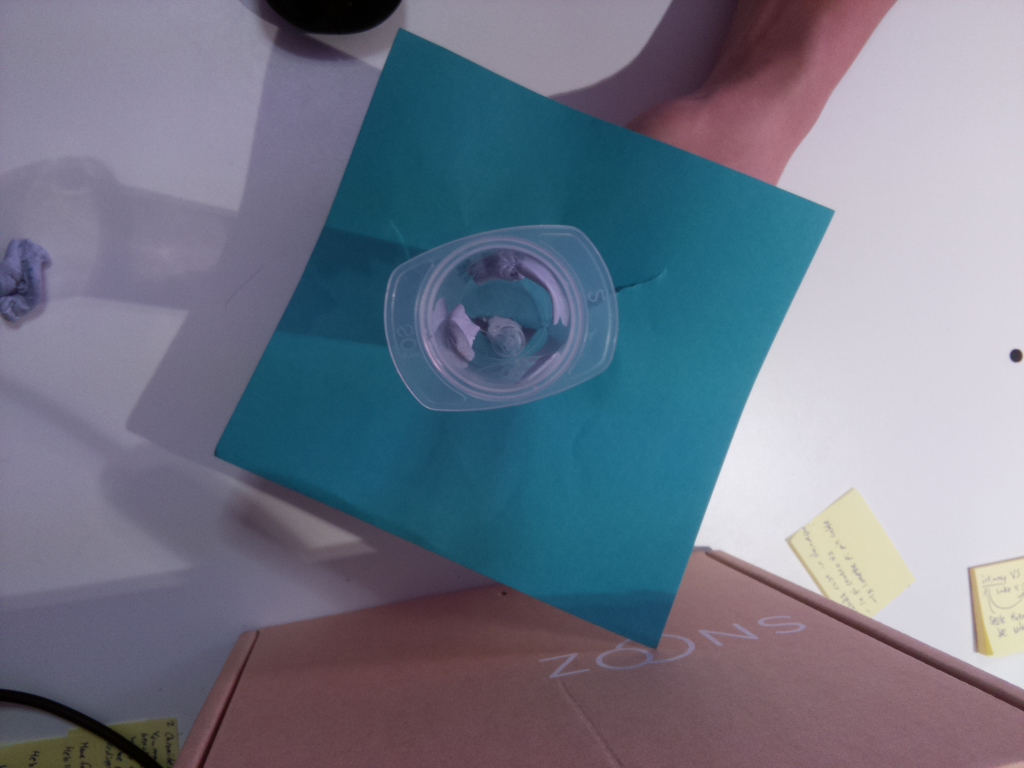dirty: (382, 225, 621, 411)
